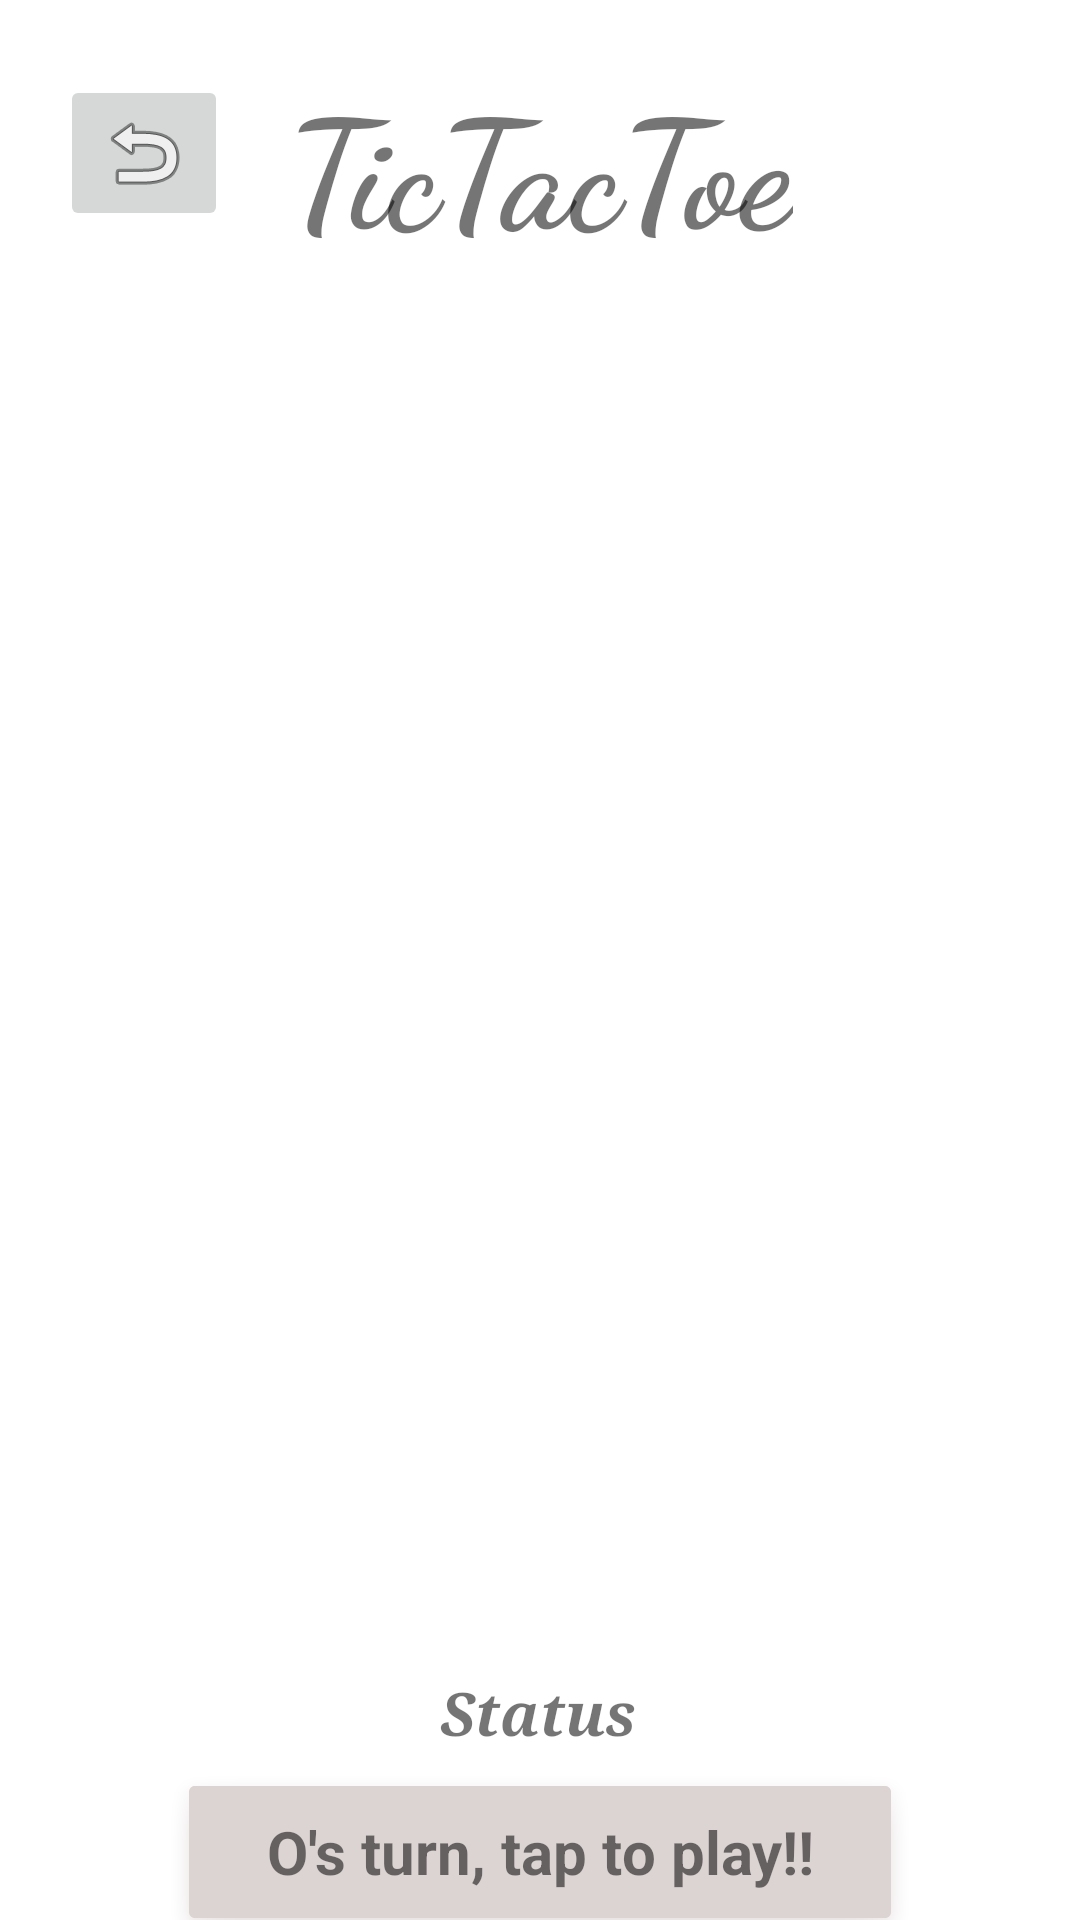

Icon click points for this 1080px×1920px phone screenshot, format (x=x, y=y):
revert: (x=144, y=153)
